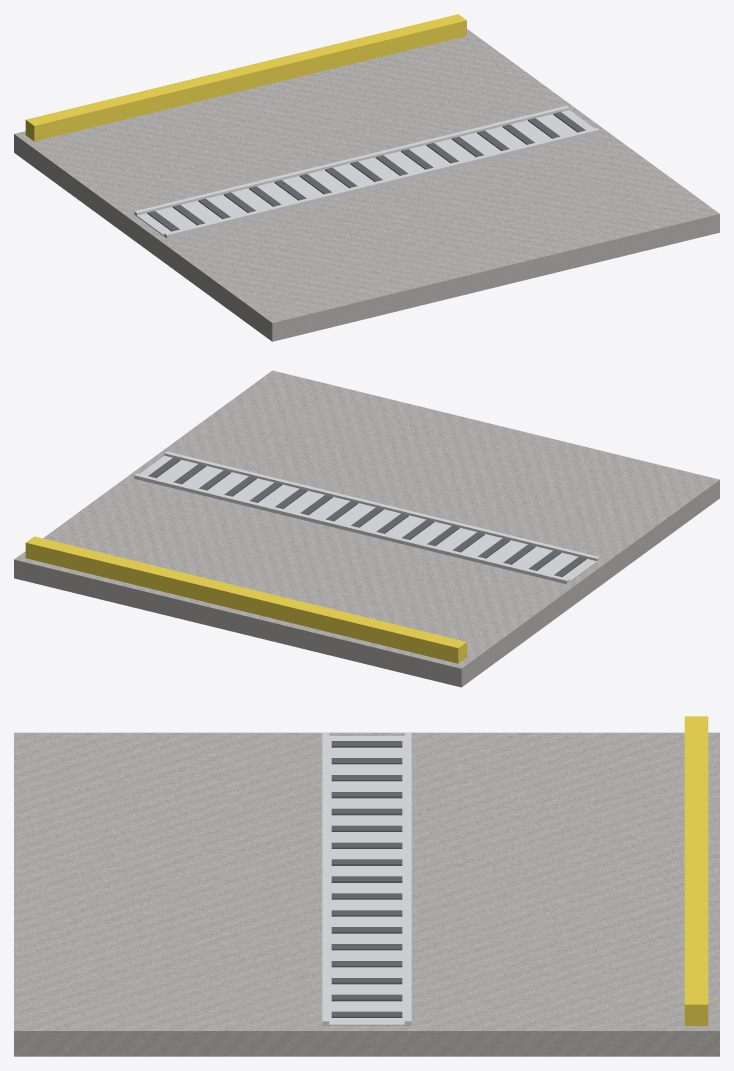
File: tool-hire-depot-and-plant-yard-tool-hire-depot-and-pla-f0a69349__35290.glb
3 renders of one model, top to bottom at view 1: azimuth 30°, elevation 25°; view 2: azimuth 150°, elevation 25°; view 3: azimuth 270°, elevation 25°, orthographic. The views are drawn at different scales.
Visible parts, largest first — view 1: tool-hire-depot-and-plant-yard-wash-bay-drain-tile; view 2: tool-hire-depot-and-plant-yard-wash-bay-drain-tile; view 3: tool-hire-depot-and-plant-yard-wash-bay-drain-tile.
Part boxes in pixels (x1,y1,x2,y2): tool-hire-depot-and-plant-yard-wash-bay-drain-tile: [14, 14, 719, 341]; tool-hire-depot-and-plant-yard-wash-bay-drain-tile: [14, 370, 719, 687]; tool-hire-depot-and-plant-yard-wash-bay-drain-tile: [14, 716, 719, 1056].
Bounding box in the file's own units: 3 × 0.22 × 3.
4 materials, 1 textured.
